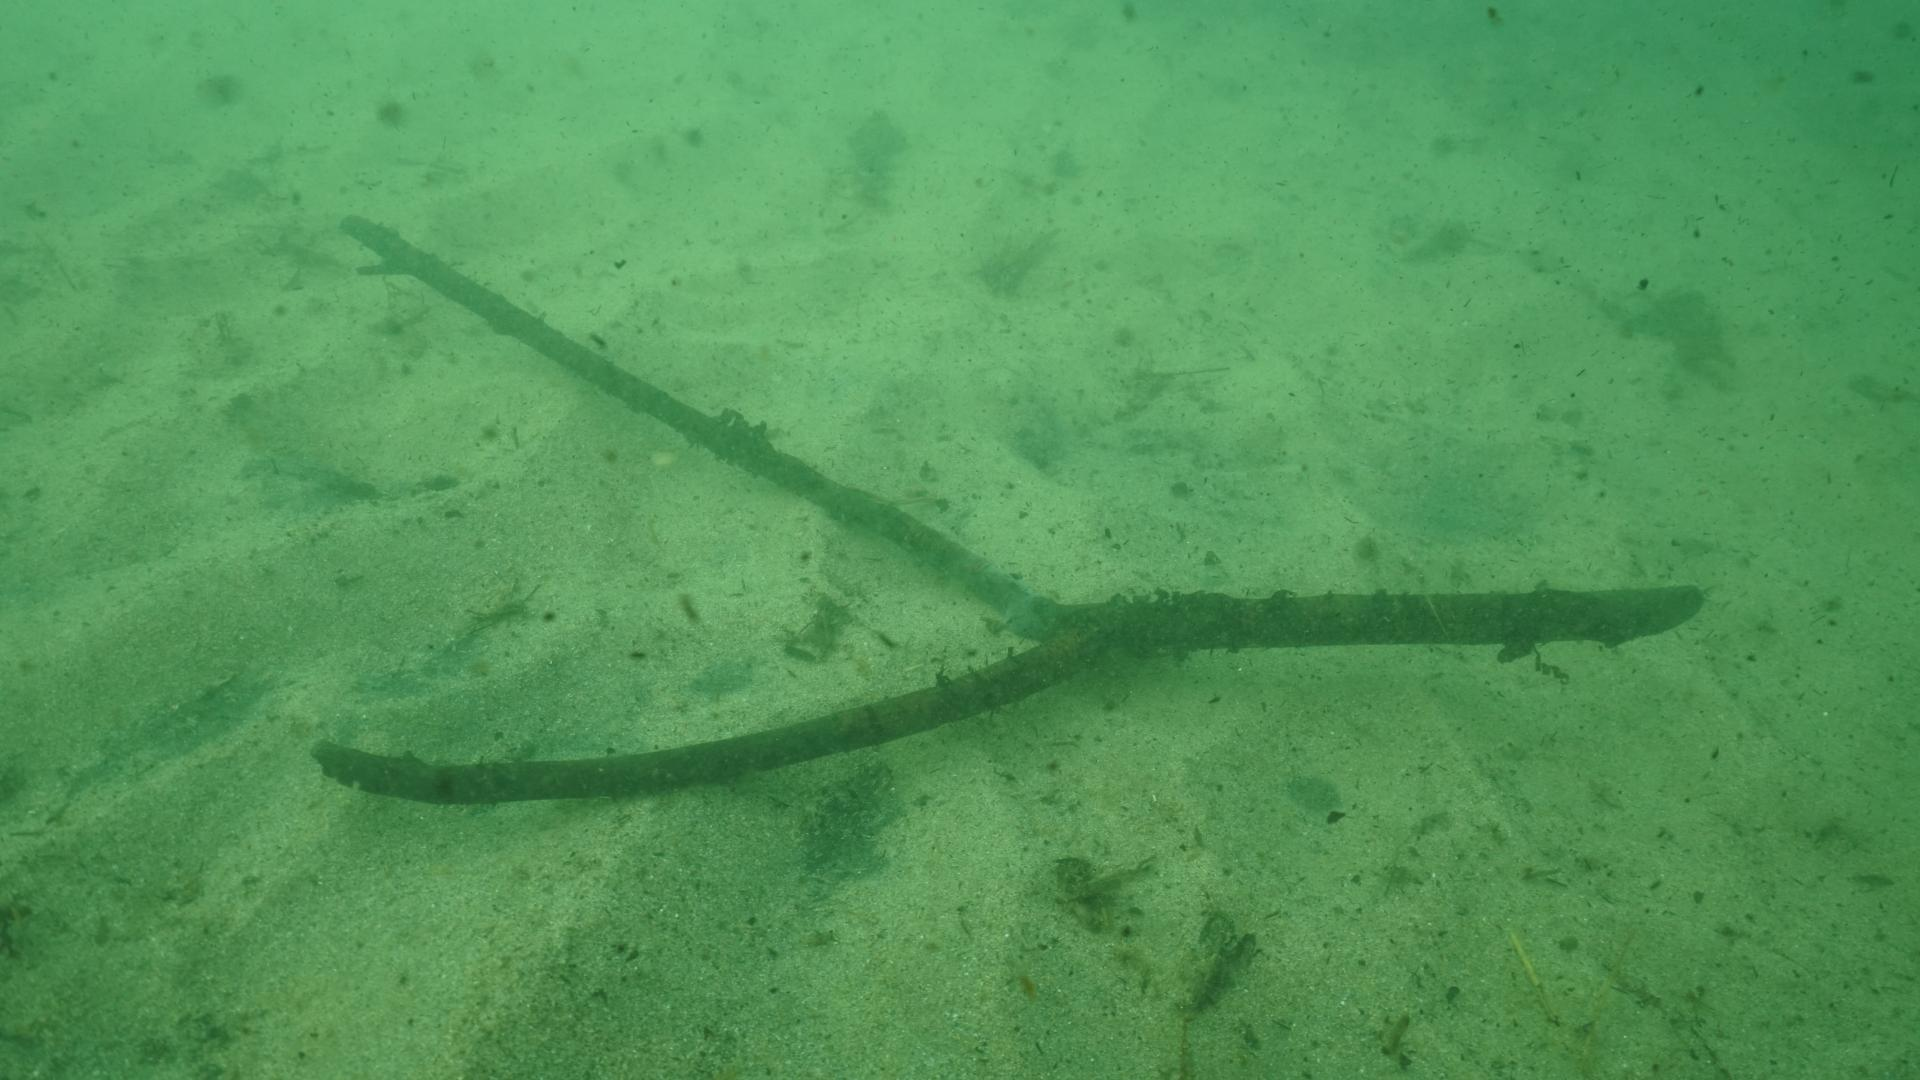wood: (309, 214, 1702, 807)
